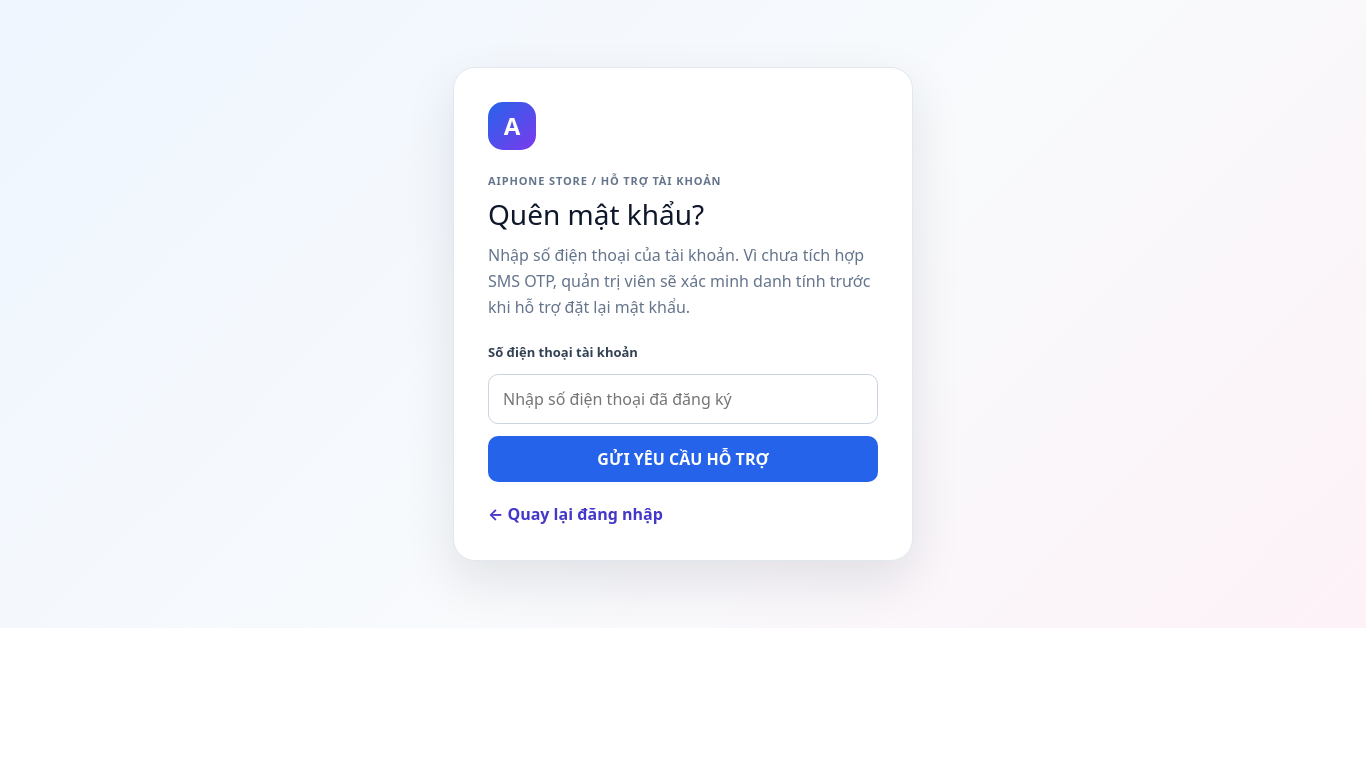
displays request errors and keeps the recovery form available
In the field labelled "Số điện thoại tài khoản": (683, 399) x1=488 y1=374 x2=878 y2=424, type "0901234567"
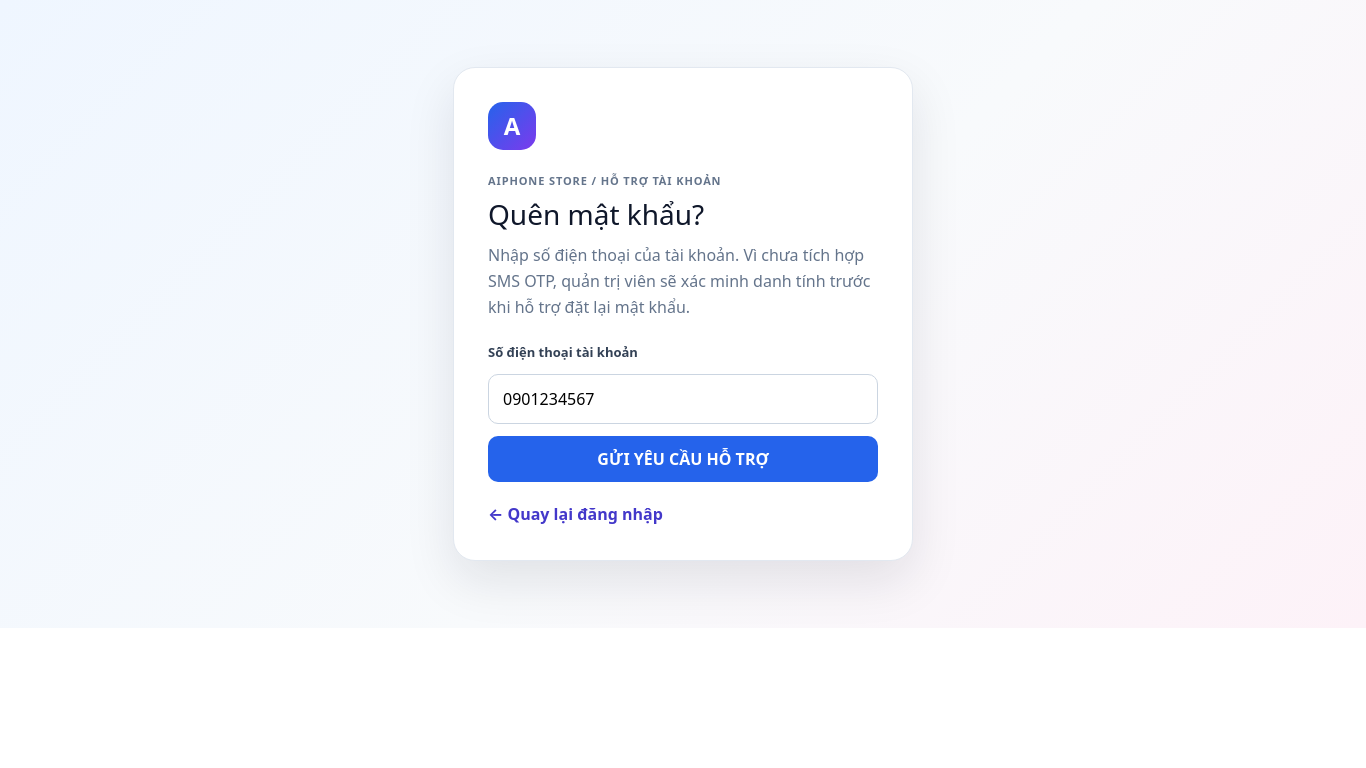
Click the button "GỬI YÊU CẦU HỖ TRỢ": (683, 459) x1=488 y1=436 x2=878 y2=482
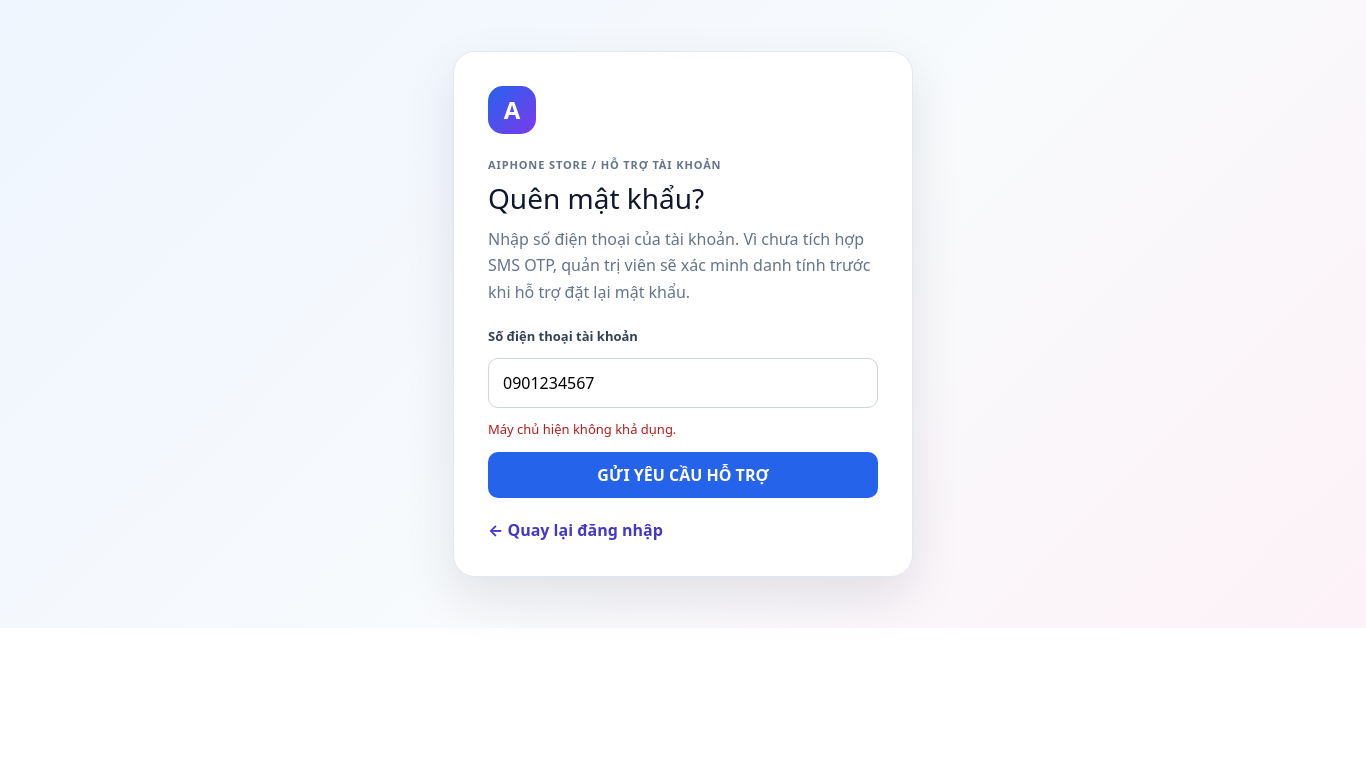
Expected: the message reads "Máy chủ hiện không khả dụng.", x1=488 y1=420 x2=676 y2=438
